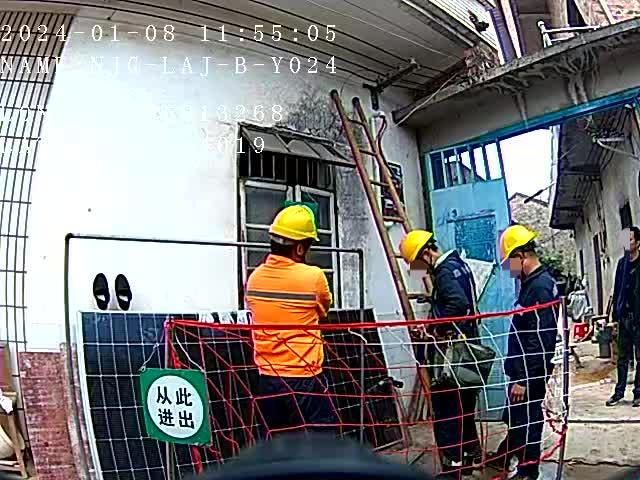halt: (269, 207, 322, 264), (503, 228, 543, 277), (403, 231, 443, 275)
inear: (513, 252, 533, 276)
unhalt: (623, 225, 640, 259)
